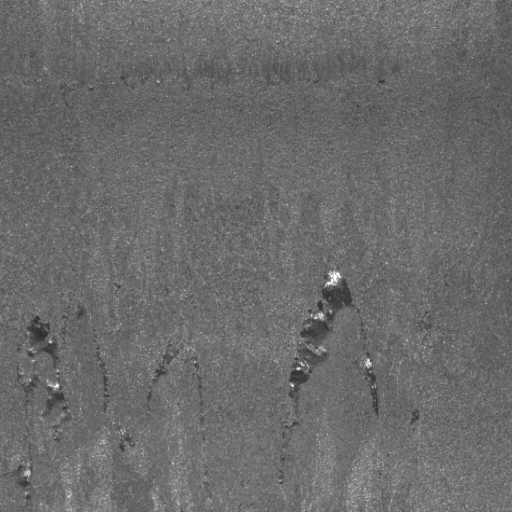aokeng: (283, 260, 382, 422), (19, 311, 74, 430)
